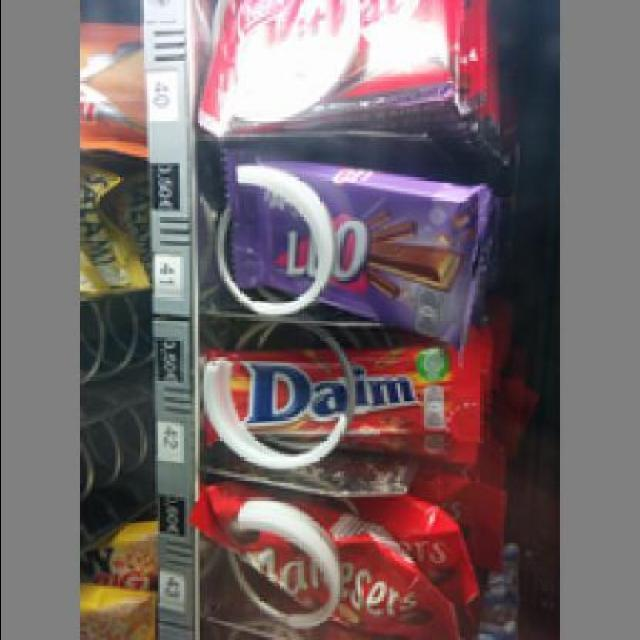Chocolate bar: (230, 154, 492, 340), (194, 489, 457, 634), (206, 1, 489, 130), (210, 340, 487, 446)
